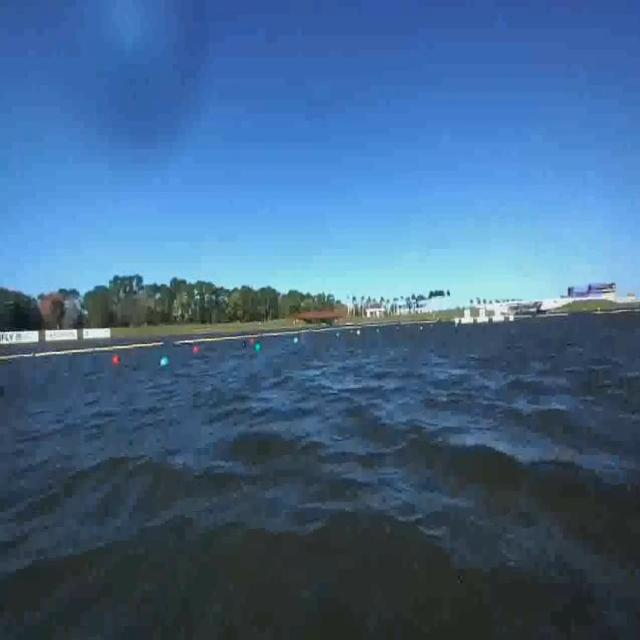green-buoy: (158, 356, 173, 374), (254, 343, 262, 353)
red-buoy: (112, 355, 120, 364)
